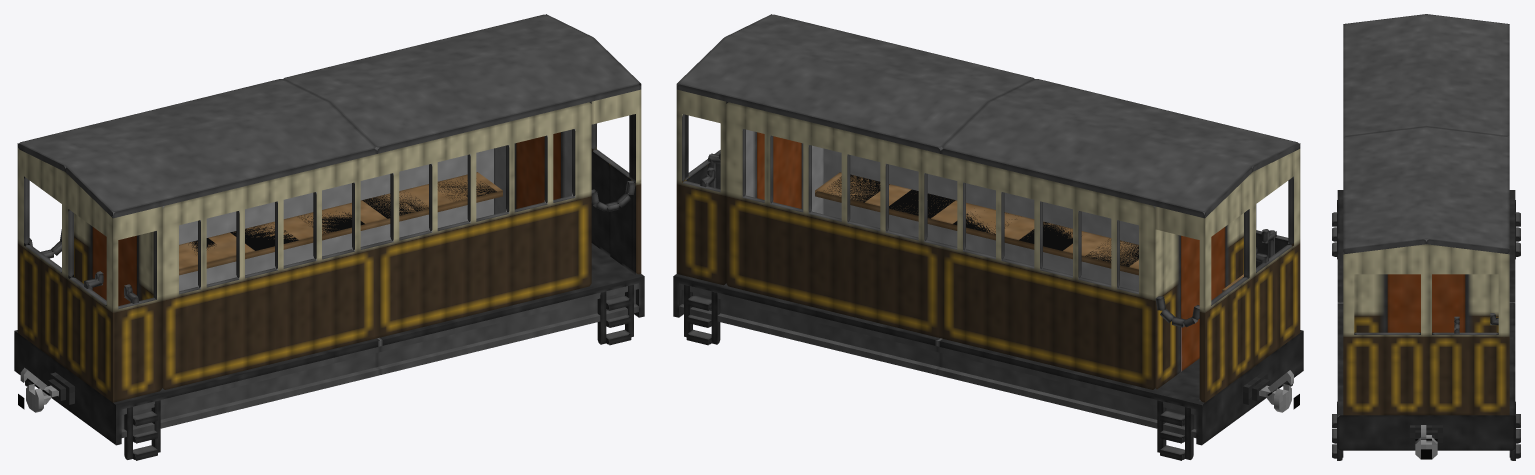
The model's file is kitsune_stormpeak_cablecar.obj.
The picture shows the model from 3 angles, left to right: view 1: azimuth 30°, elevation 25°; view 2: azimuth 150°, elevation 25°; view 3: azimuth 270°, elevation 25°; orthographic projection. The views are drawn at different scales.
Parts seen in each view (by area): view 1: SHELL_WOOD_roof, SHELL_WOOD.001, SHELL_WOOD, SHELL_WOOD_cab, SHELL_WOOD_INTERIOR.001, FRAME.001, FRAME, FRAME_cab, SHELL_WOOD_INTERIOR, SHELL_WOOD_cab_roof, SHELL_WOOD_cab_roof.001, SHELL_WOOD_INTERIOR_cab.001 (+11 smaller); view 2: SHELL_WOOD_roof, SHELL_WOOD.001, SHELL_WOOD, SHELL_WOOD_cab, SHELL_WOOD_INTERIOR.001, FRAME, FRAME.001, SHELL_WOOD_cab.001, FRAME_cab, SHELL_WOOD_INTERIOR, SHELL_WOOD_cab_roof, SHELL_WOOD_cab_roof.001 (+12 smaller); view 3: SHELL_WOOD_roof, SHELL_WOOD_cab.001, FRAME_cab.001, SHELL_WOOD_INTERIOR_cab.001, SHELL_WOOD_cab_roof.001, SHELL_WOOD_cab_roof, DOOR_4_INTERIOR, DOOR_3_INTERIOR, FRAME, FRAME.001, COUPLER_ENGAGED_REAR_2_TOGGLE_LABEL_Uncouple, FRAME_cab.
Boxes of the visible parts, x1,y1,x2,y2 form: SHELL_WOOD_roof: (70,26,588,205); SHELL_WOOD.001: (374,102,588,338); SHELL_WOOD: (165,154,376,389); SHELL_WOOD_cab: (17,143,165,402); SHELL_WOOD_INTERIOR.001: (285,129,575,265); FRAME.001: (377,286,592,374); FRAME: (165,338,380,426); FRAME_cab: (14,330,168,460); SHELL_WOOD_INTERIOR: (162,182,354,291); SHELL_WOOD_cab_roof: (17,130,165,218); SHELL_WOOD_cab_roof.001: (494,14,641,102); SHELL_WOOD_INTERIOR_cab.001: (589,101,635,274); SHELL_WOOD_roof: (729,26,1247,205); SHELL_WOOD.001: (729,102,943,338); SHELL_WOOD: (941,154,1152,389); SHELL_WOOD_cab: (1152,143,1300,402); SHELL_WOOD_INTERIOR.001: (742,129,1032,265); FRAME: (937,338,1152,426); FRAME.001: (725,286,940,374); SHELL_WOOD_cab.001: (676,14,771,286); FRAME_cab: (1149,330,1303,460); SHELL_WOOD_INTERIOR: (963,182,1155,291); SHELL_WOOD_cab_roof: (1152,130,1300,218); SHELL_WOOD_cab_roof.001: (676,14,823,102); SHELL_WOOD_roof: (1343,36,1509,226); SHELL_WOOD_cab.001: (1343,239,1509,415); FRAME_cab.001: (1332,393,1520,460); SHELL_WOOD_INTERIOR_cab.001: (1343,253,1498,334); SHELL_WOOD_cab_roof.001: (1343,217,1509,248); SHELL_WOOD_cab_roof: (1343,14,1509,46); DOOR_4_INTERIOR: (1387,274,1420,332); DOOR_3_INTERIOR: (1432,274,1465,332); FRAME: (1337,212,1515,303); FRAME.001: (1337,302,1515,392); COUPLER_ENGAGED_REAR_2_TOGGLE_LABEL_Uncouple: (1410,425,1442,459); FRAME_cab: (1332,190,1520,259).
Size of the model in its own units: 7 by 2.94 by 2.13.
Materials: 5 (5 with a texture image).
